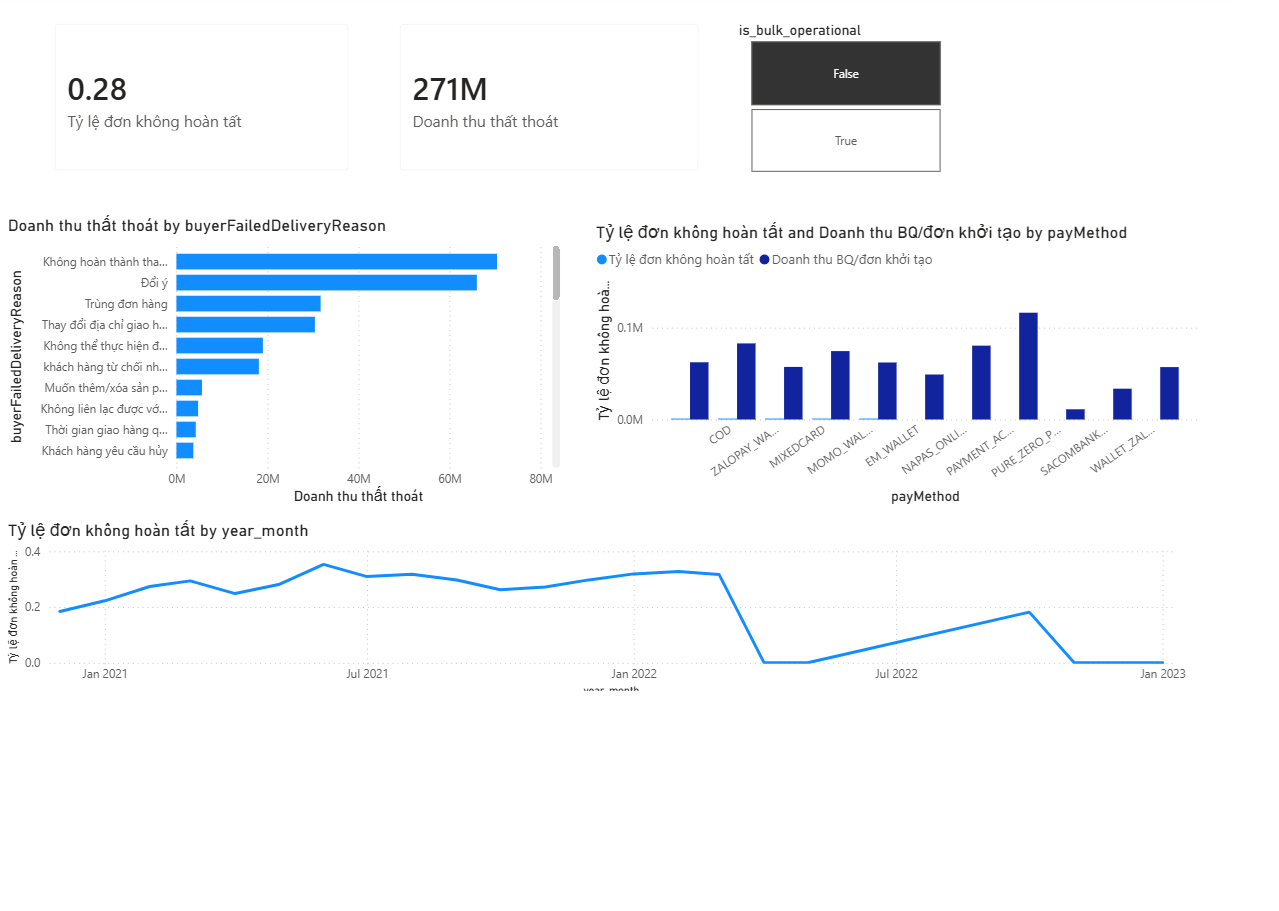

This screenshot's page, from the dashboard's own definition file:
{"tool":"powerbi","page":{"name":"Vận hành","canvas":[1280,720],"ordinal":2},"visuals":[{"type":"cardVisual","fields":{"Data":["_Measures.Tỷ lệ đơn không hoàn tất"]},"box":[45.9,11.2,334.8,184.8],"z":0},{"type":"cardVisual","fields":{"Data":["_Measures.Doanh thu thất thoát"]},"box":[398.1,11.2,339.9,184.8],"z":1000},{"type":"slicer","fields":{"Values":["dim_order.is_bulk_operational"]},"box":[748.2,21.4,242.9,165.4],"z":2000},{"type":"clusteredBarChart","fields":{"Category":["fact_order_item.buyerFailedDeliveryReason"],"Y":["_Measures.Doanh thu thất thoát"]},"box":[10.2,222.5,573.7,301.1],"z":3000},{"type":"clusteredColumnChart","fields":{"Category":["dim_order.payMethod"],"Y":["_Measures.Tỷ lệ đơn không hoàn tất","_Measures.AOV"]},"box":[610.4,229.7,624.7,294],"z":4000},{"type":"lineChart","fields":{"Category":["dim_date.year_month"],"Y":["_Measures.Tỷ lệ đơn không hoàn tất"]},"box":[10.2,533.8,1212.6,185.8],"z":5000}]}

Visuals, with their boxes on the page's 1280x720 design canvas (x1, y1, x2, y2). These are canvas units, not pixel positions in the 1279x911 screenshot, which may show the page scaled, cropped or inside an application window:
cardVisual - _Measures.Tỷ lệ đơn không hoàn tất: x1=46 y1=11 x2=381 y2=196
cardVisual - _Measures.Doanh thu thất thoát: x1=398 y1=11 x2=738 y2=196
slicer - dim_order.is_bulk_operational: x1=748 y1=21 x2=991 y2=187
clusteredBarChart - fact_order_item.buyerFailedDeliveryReason x _Measures.Doanh thu thất thoát: x1=10 y1=222 x2=584 y2=524
clusteredColumnChart - dim_order.payMethod x _Measures.Tỷ lệ đơn không hoàn tất: x1=610 y1=230 x2=1235 y2=524
lineChart - dim_date.year_month x _Measures.Tỷ lệ đơn không hoàn tất: x1=10 y1=534 x2=1223 y2=720
